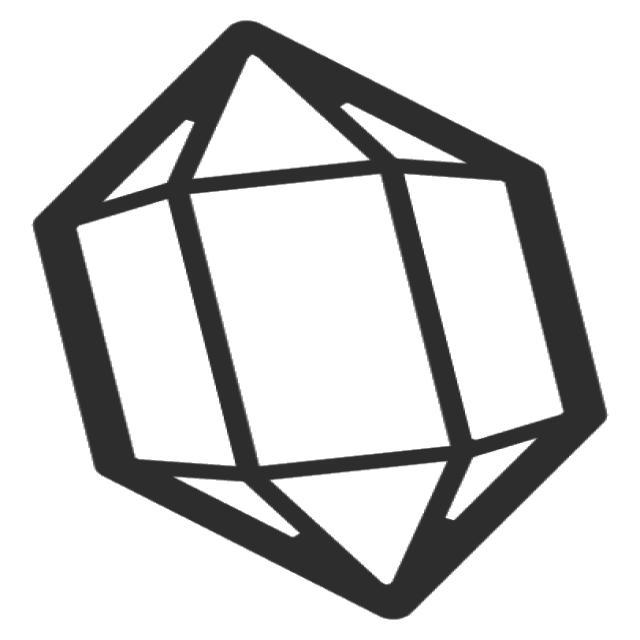crystal: (15, 12, 622, 634)
